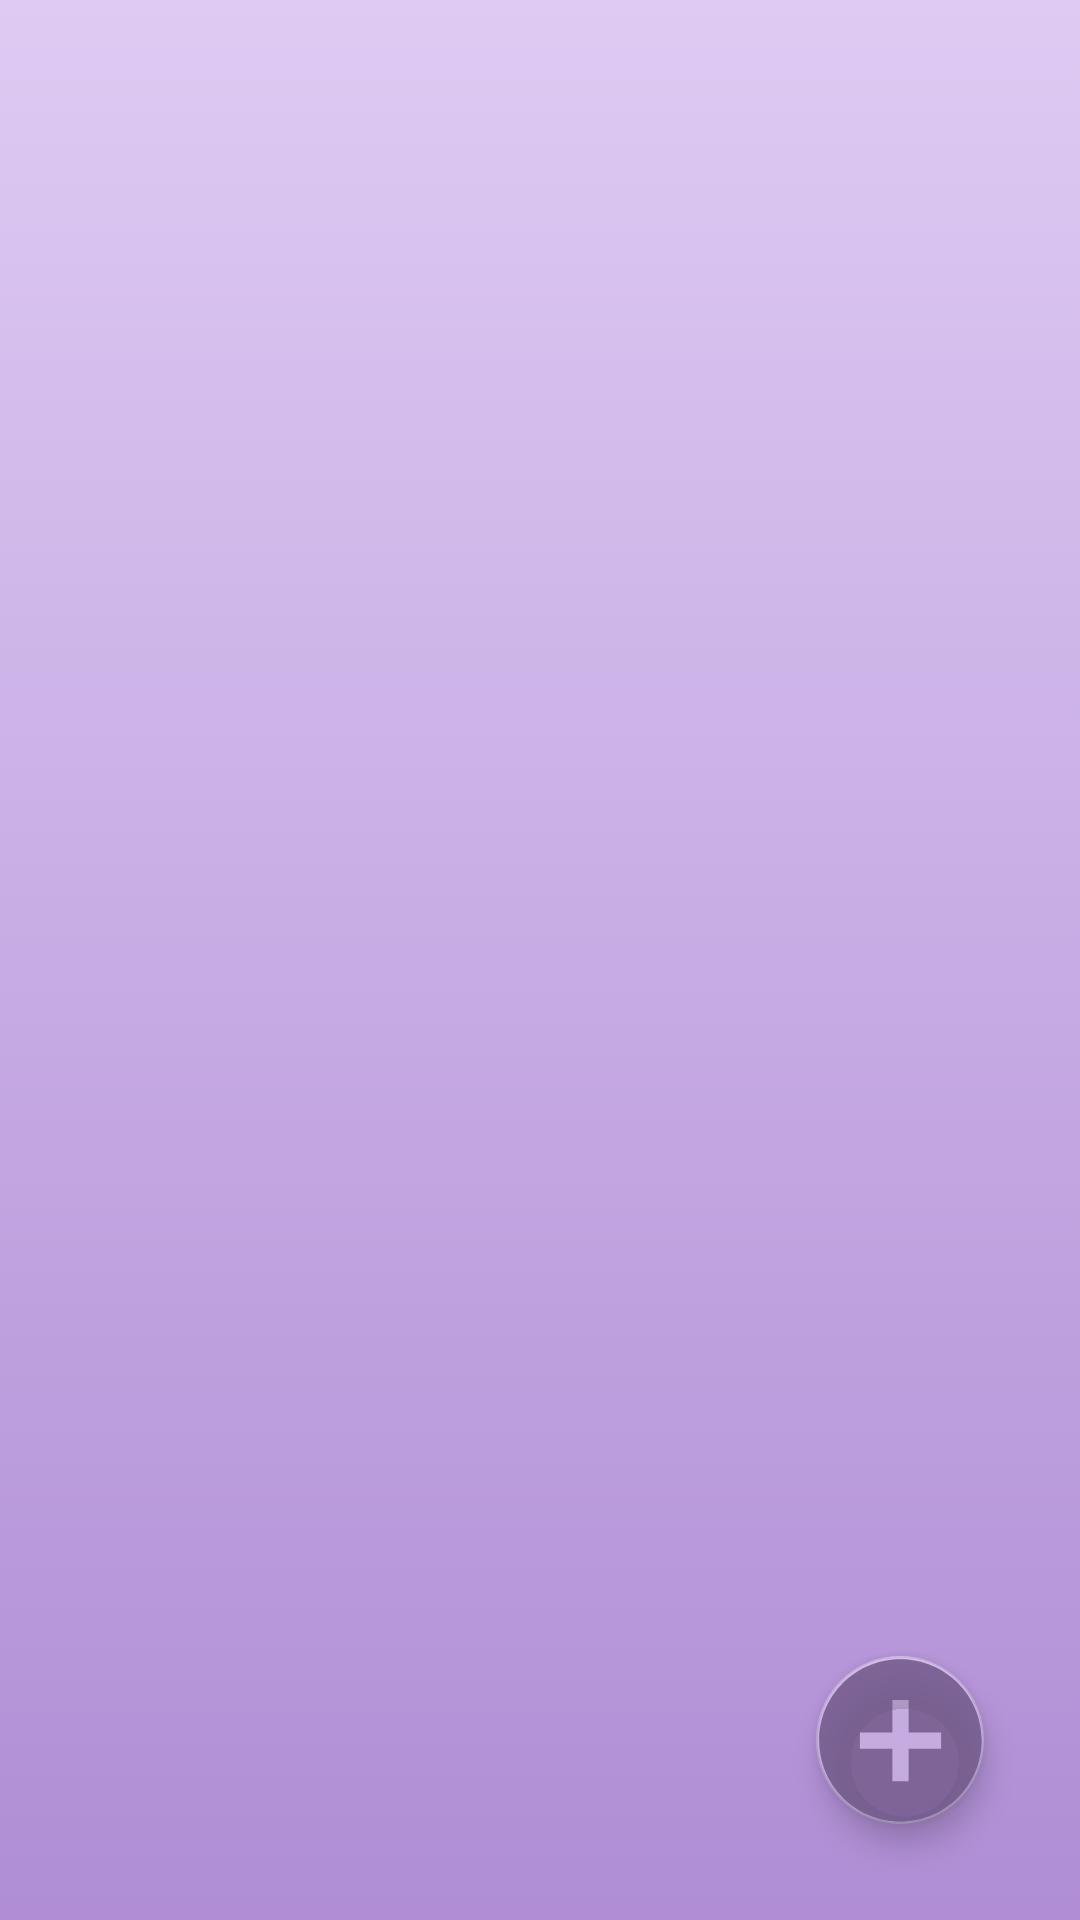

Screen size 1080 × 1920. Icon name, then its box in pixels as bbox=[x1, y1, x2, y2]:
Add New Note: bbox=[818, 1656, 984, 1824]
